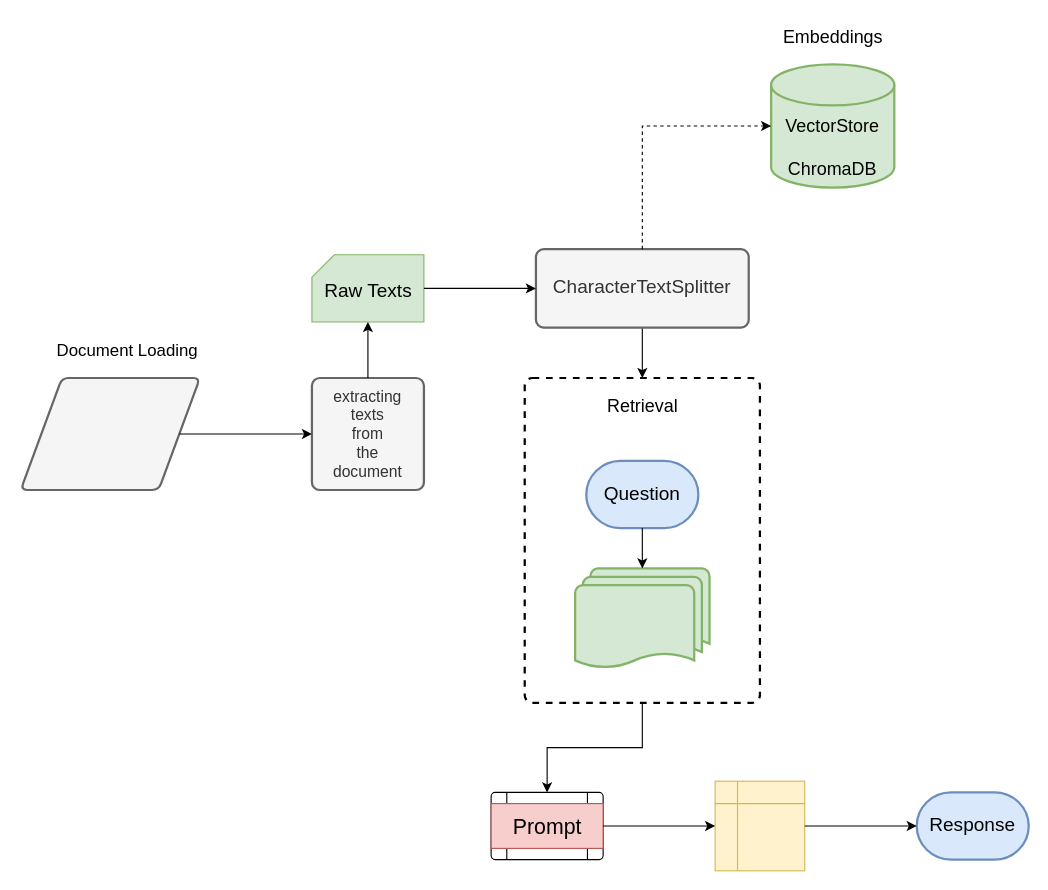
Some shapes in this 1048 by 890 pixel diagram are drawn without their labels. The centre of each missing label's shape, as x and y in pixels:
"Doc Type: pdf Doc Loader: PyPDF2" belongs at (109,433).
"LLM" belongs at (759,825).
"Retrieved Chunks" belongs at (641,618).
